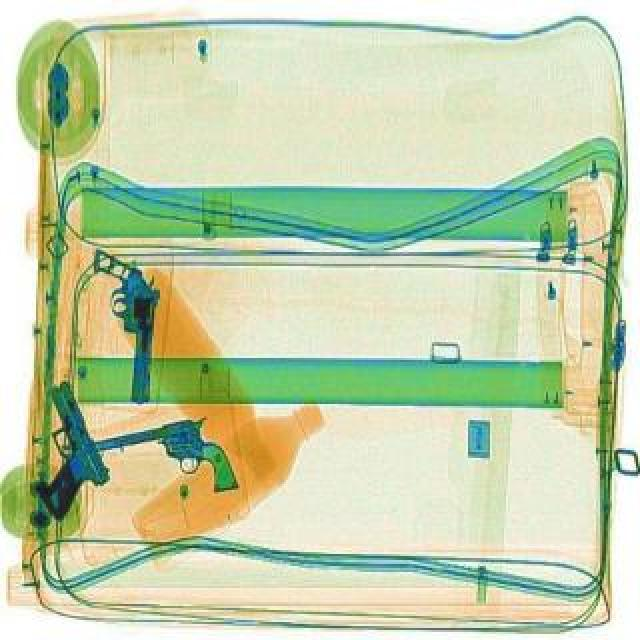gun: (82, 414, 238, 510), (0, 384, 116, 512), (90, 248, 160, 402)
